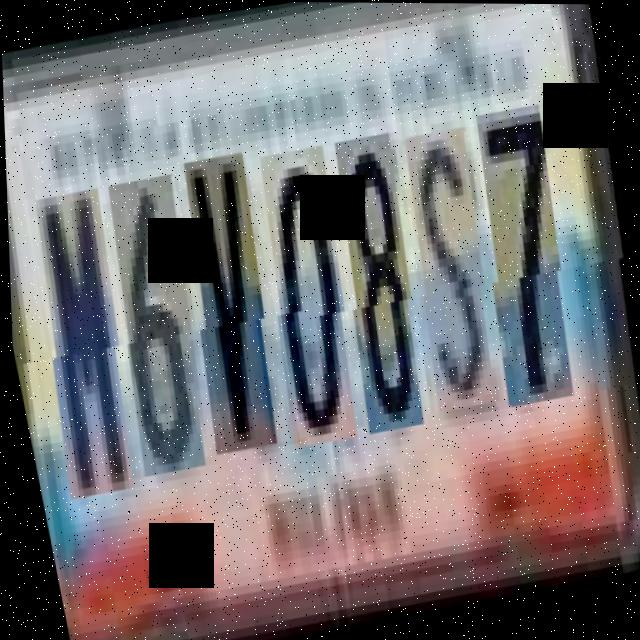6: (97, 174, 228, 477)
7: (464, 107, 596, 409)
8: (322, 135, 445, 435)
M: (21, 188, 154, 499)
O: (247, 147, 378, 449)
S: (396, 129, 518, 414)
V: (171, 153, 298, 454)
